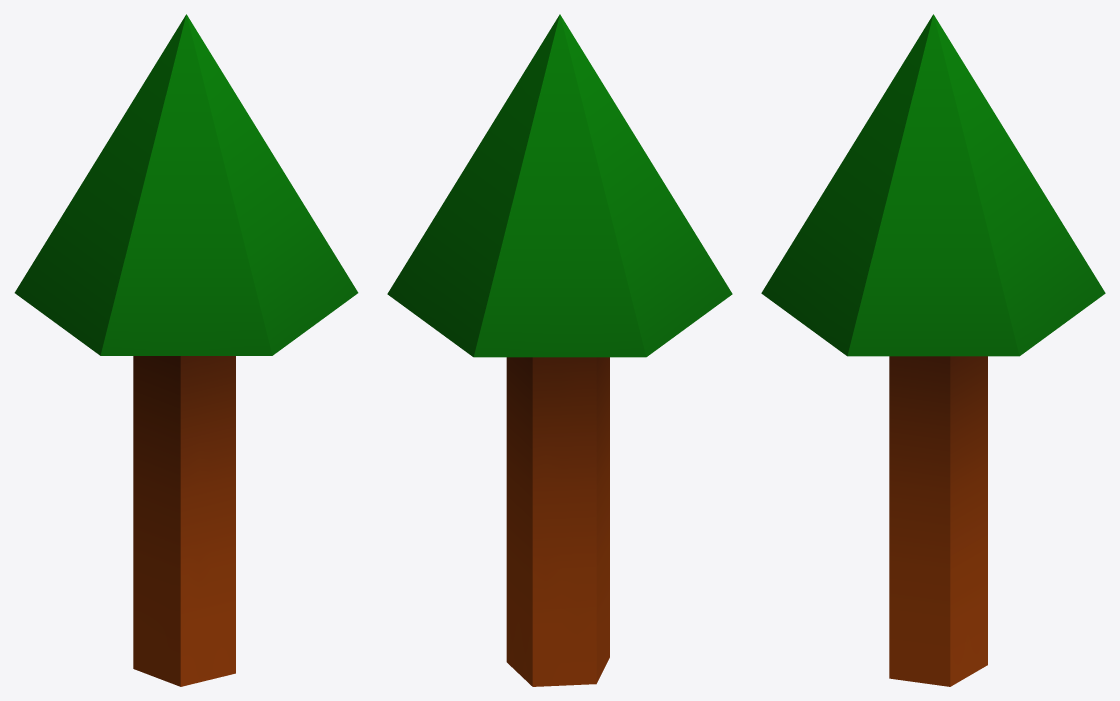
Rendered from ArvoreBaixa.fbx.
3 renders of one model, left to right at view 1: azimuth 30°, elevation 25°; view 2: azimuth 150°, elevation 25°; view 3: azimuth 270°, elevation 25°, orthographic.
Visible parts, largest first — view 1: Cylinder.005; view 2: Cylinder.005; view 3: Cylinder.005.
Part boxes in pixels (bbox=[...]): Cylinder.005: bbox=[14, 14, 358, 686]; Cylinder.005: bbox=[387, 14, 732, 686]; Cylinder.005: bbox=[761, 14, 1105, 686].
Size of the model in its own units: 197 by 475 by 228.
